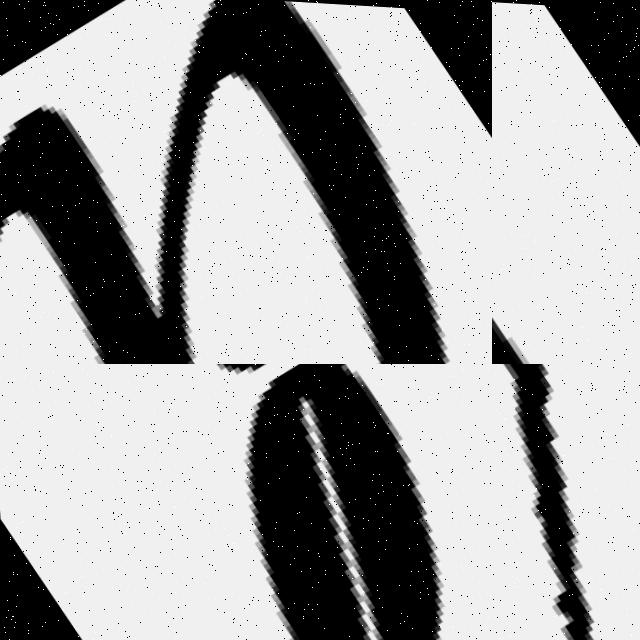A: (0, 0, 492, 364)
G: (0, 364, 492, 640)
I: (492, 0, 640, 364)
V: (492, 364, 640, 640)
